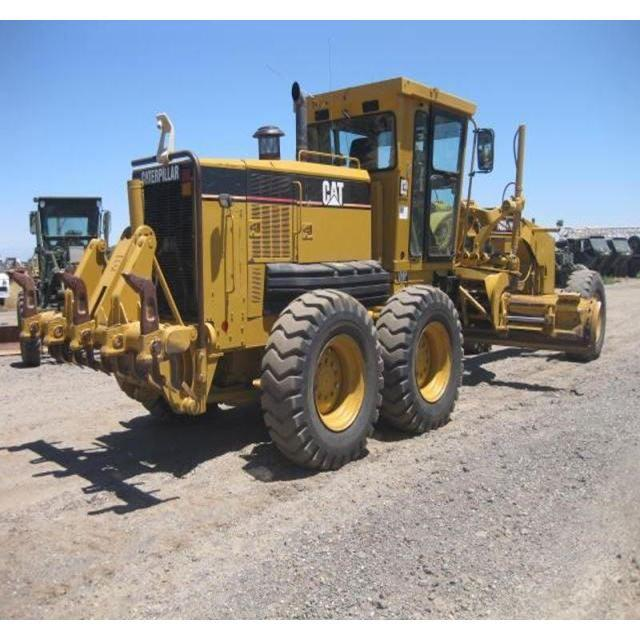buldozerpayloadergrader: (68, 49, 618, 474)
